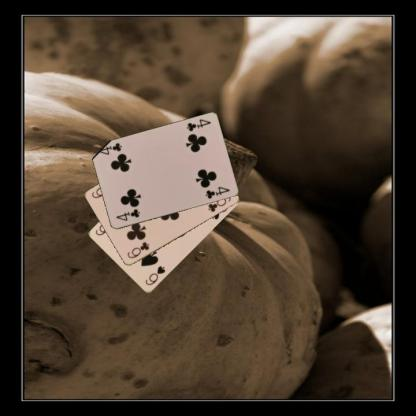4c: (113, 206, 141, 223), (184, 117, 212, 133)
6c: (124, 239, 150, 260)
6s: (143, 264, 166, 286)
